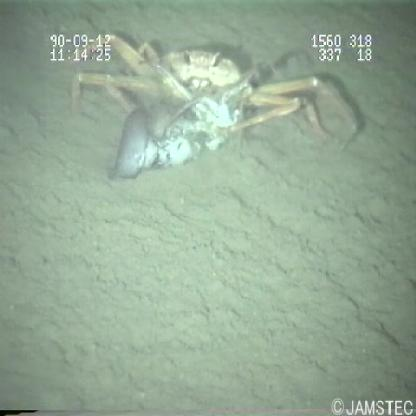Bio: (65, 30, 367, 179)
